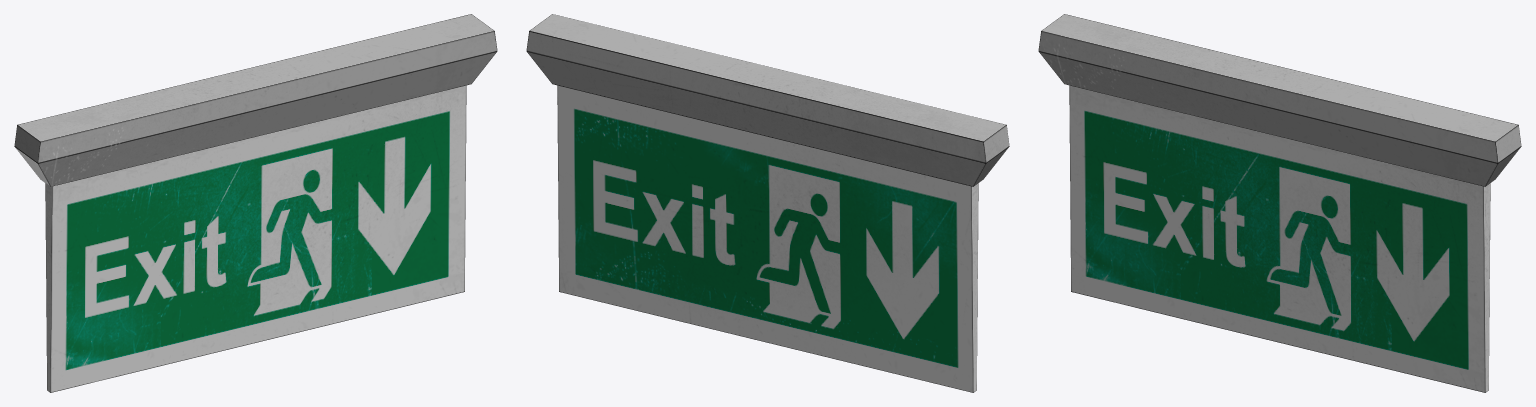
Rendered from Exit.fbx.
3 renders of one model, left to right at view 1: azimuth 30°, elevation 25°; view 2: azimuth 150°, elevation 25°; view 3: azimuth 330°, elevation 25°, orthographic.
Parts seen in each view (by area): view 1: Cube; view 2: Cube; view 3: Cube.
Part boxes in pixels (x1,y1,x2,y2): Cube: (14, 14, 497, 392); Cube: (526, 14, 1009, 392); Cube: (1038, 14, 1521, 392).
Size of the model in its own units: 753 by 412 by 66.
Materials: 1 (1 with a texture image).
